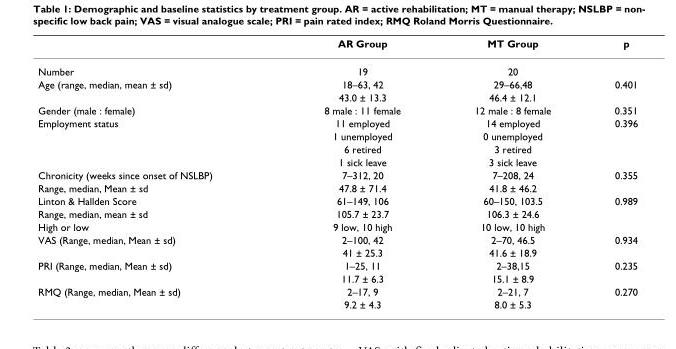table: (37, 36, 637, 309)
table column: (37, 36, 267, 309), (267, 36, 436, 309), (436, 36, 582, 309), (582, 36, 637, 309)
table column header: (37, 36, 637, 57)
table row: (37, 36, 637, 57), (37, 57, 637, 77), (37, 77, 637, 90), (37, 90, 637, 103), (37, 103, 637, 116), (37, 116, 637, 129), (37, 129, 637, 142), (37, 142, 637, 155), (37, 155, 637, 168), (37, 168, 637, 181), (37, 181, 637, 194), (37, 206, 637, 219), (37, 219, 637, 232), (37, 232, 637, 245), (37, 245, 637, 258), (37, 258, 637, 271), (37, 271, 637, 284), (37, 284, 637, 297), (37, 194, 637, 206), (37, 297, 637, 309)
table spanning cell: (37, 116, 267, 168), (37, 77, 267, 103), (37, 232, 267, 258), (37, 258, 267, 284), (37, 284, 267, 309)
